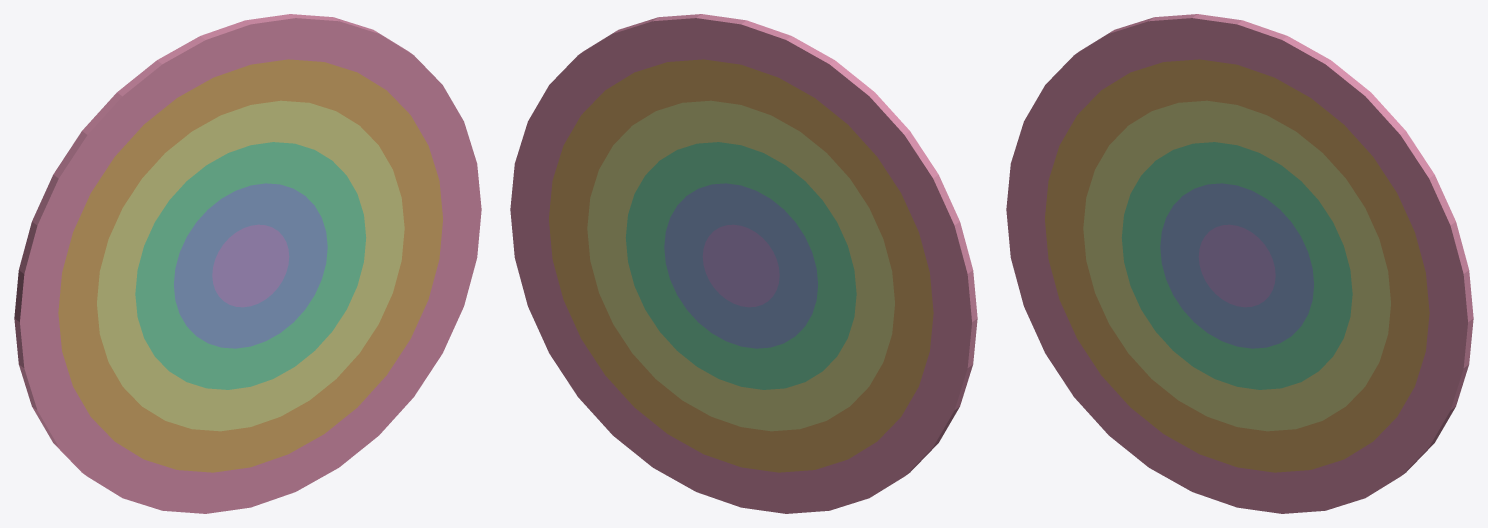
File: system_bilangan_concentric.glb
The picture shows the model from 3 angles, left to right: view 1: azimuth 30°, elevation 25°; view 2: azimuth 150°, elevation 25°; view 3: azimuth 330°, elevation 25°; orthographic projection.
Visible parts, largest first — view 1: world; view 2: world; view 3: world.
Boxes of the visible parts, x1,y1,x2,y2 form: world: [14, 14, 481, 513]; world: [510, 14, 977, 513]; world: [1006, 14, 1473, 513].
Size of the model in its own units: 2.4 by 2.4 by 0.05.
